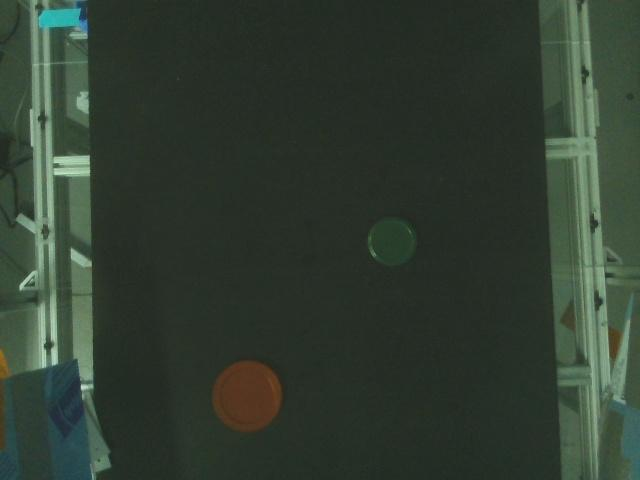metal: (368, 217, 418, 269)
plastic: (214, 359, 283, 433)
